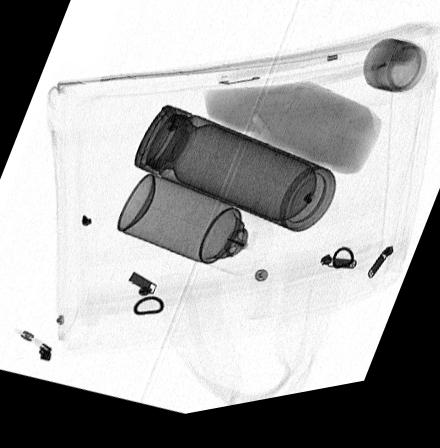Sprayer: (117, 179, 273, 284)
